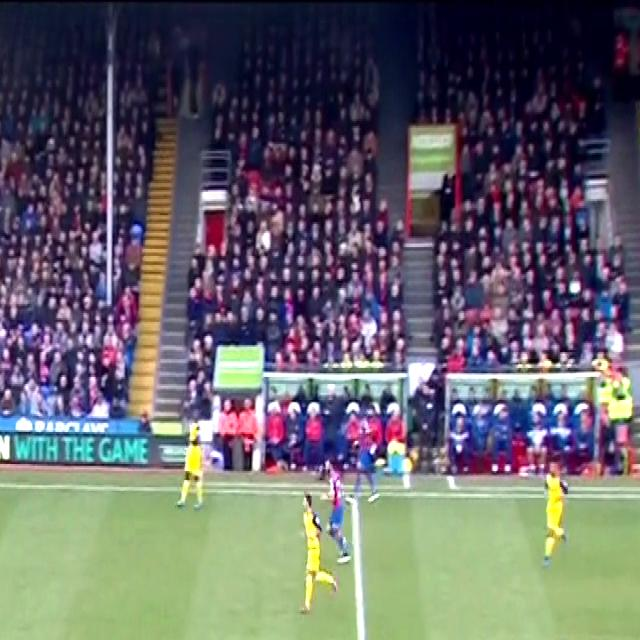soccer-player: (294, 487, 334, 614), (536, 462, 580, 572), (175, 418, 212, 518), (532, 633, 599, 640)
